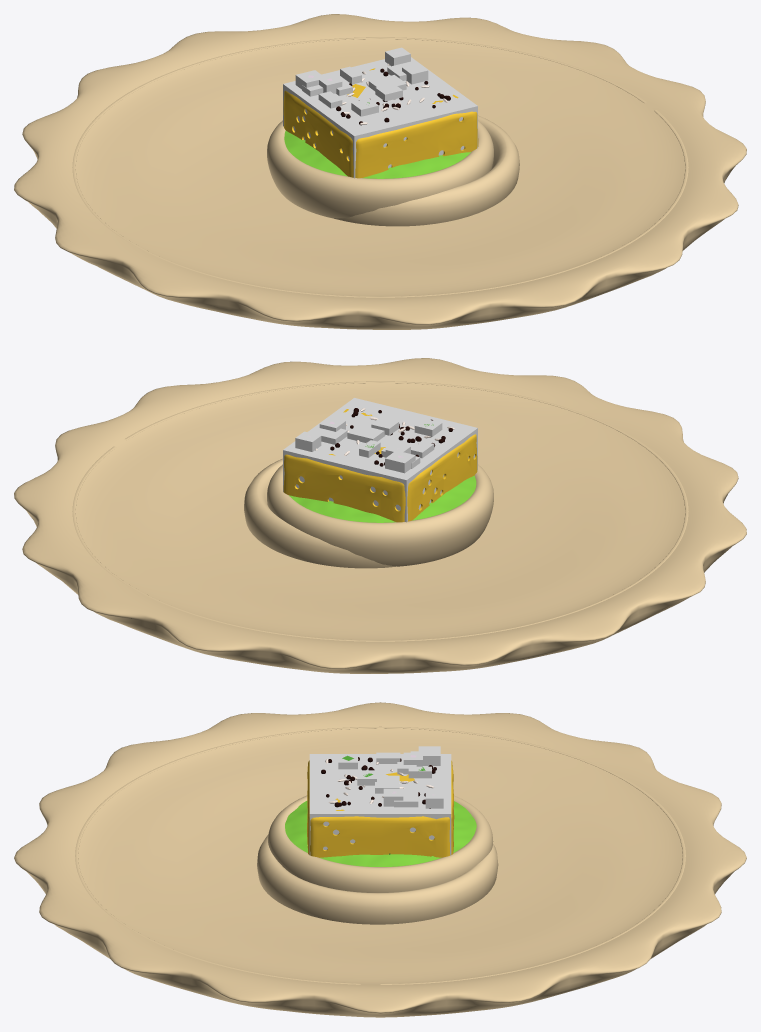
Rendered from khaman.glb.
3 renders of one model, top to bottom at view 1: azimuth 30°, elevation 25°; view 2: azimuth 150°, elevation 25°; view 3: azimuth 270°, elevation 25°, orthographic.
Visible parts, largest first — view 1: servingPlatePhysical, chutneyBowl, khamanPhysicalDynamic, cuboid_k, onionBowl; view 2: servingPlatePhysical, chutneyBowl, khamanPhysicalDynamic, cuboid_k, onionBowl; view 3: servingPlatePhysical, chutneyBowl, onionBowl, khamanPhysicalDynamic, cuboid_k.
Part boxes in pixels (x1,y1,x2,y2): servingPlatePhysical: (14,14,746,329); chutneyBowl: (267,120,493,218); khamanPhysicalDynamic: (283,63,478,178); cuboid_k: (283,57,477,178); onionBowl: (334,115,519,226); servingPlatePhysical: (14,358,746,673); chutneyBowl: (267,464,493,566); khamanPhysicalDynamic: (283,408,477,522); cuboid_k: (283,398,477,522); onionBowl: (244,458,396,568); servingPlatePhysical: (14,702,746,1017); chutneyBowl: (268,795,493,892); onionBowl: (257,835,498,924); khamanPhysicalDynamic: (307,757,454,857); cuboid_k: (309,754,451,855).
Bounding box in the file's own units: 7.02 × 1.32 × 7.02.
Materials: 1 (1 with a texture image).
